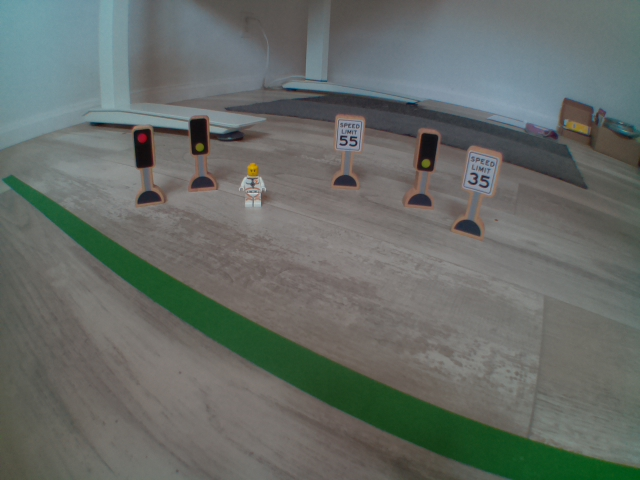Green Traffic Light: (413, 121, 440, 174), (183, 113, 214, 159)
Red Traffic Light: (124, 118, 159, 174)
Speed Limit 35: (458, 140, 503, 199)
Speed Limit 55: (332, 108, 366, 154)
person: (234, 152, 275, 211)
